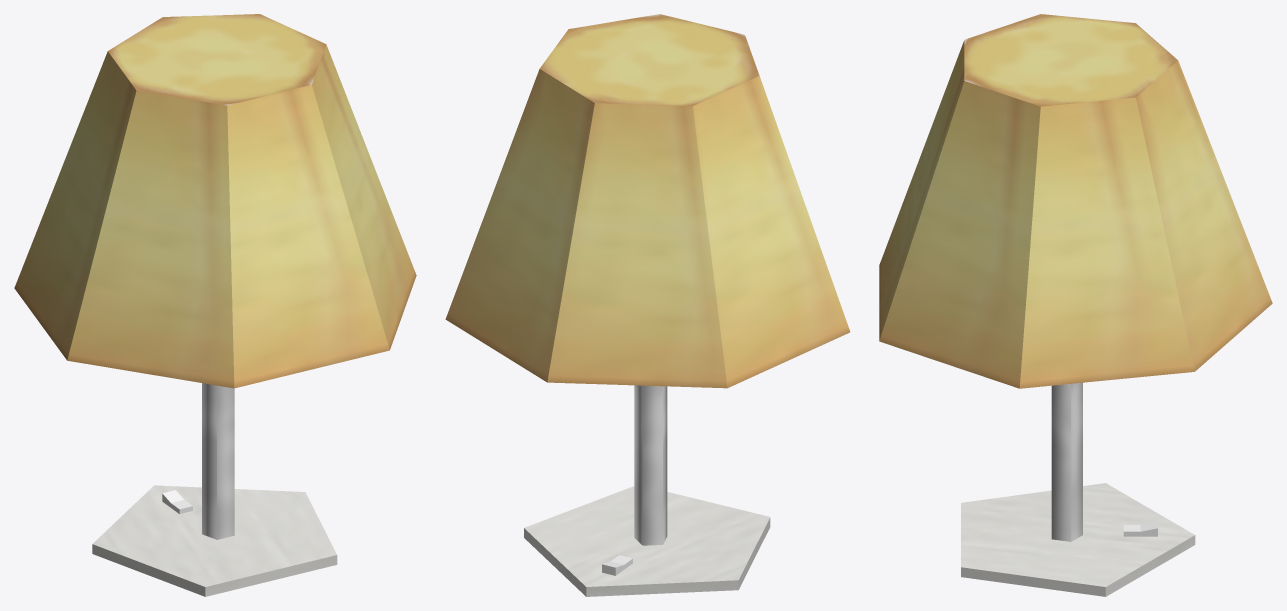
File: TableLaamp.fbx
3 renders of one model, left to right at view 1: azimuth 30°, elevation 25°; view 2: azimuth 150°, elevation 25°; view 3: azimuth 270°, elevation 25°, orthographic.
Parts seen in each view (by area): view 1: Cylinder; view 2: Cylinder; view 3: Cylinder.
Part boxes in pixels (<box>): Cylinder: <box>14,14,416,596</box>; Cylinder: <box>445,14,850,596</box>; Cylinder: <box>879,14,1272,596</box>.
Size of the model in its own units: 195 by 258 by 190.
